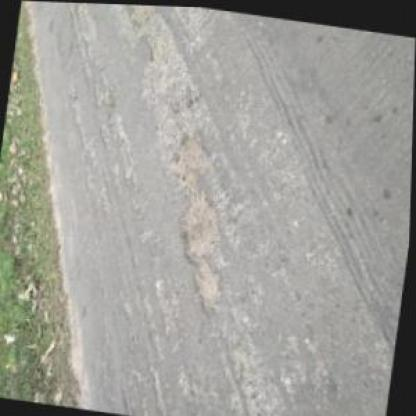pothole: (172, 184, 225, 268), (167, 128, 214, 192), (190, 255, 223, 308), (114, 3, 156, 30)
